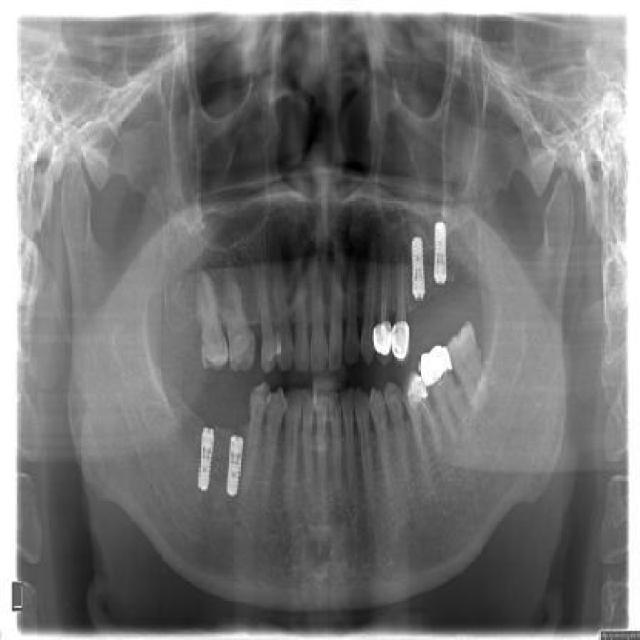dolgu: (404, 372, 429, 409)
implant: (193, 424, 217, 493), (429, 218, 453, 286), (223, 424, 245, 498), (411, 222, 428, 307)
kaplama: (417, 347, 457, 384), (392, 321, 414, 360), (372, 320, 394, 358)
